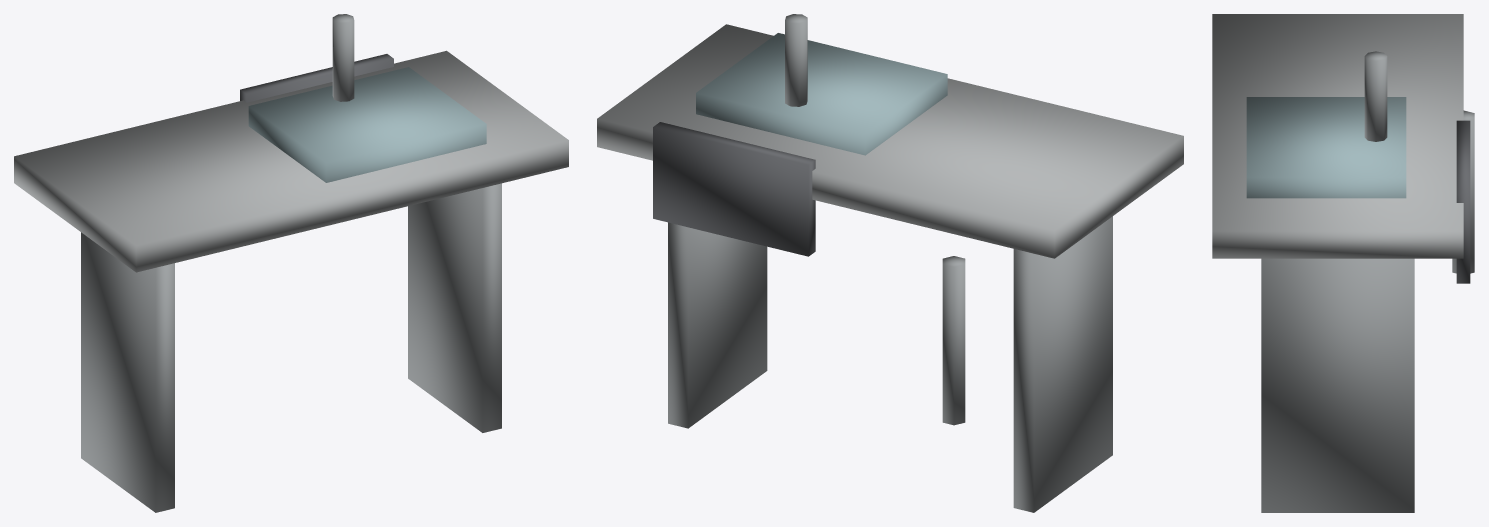
Rendered from lab_sink_bench__service.glb.
3 views of the same model, side by side, from view 1: azimuth 30°, elevation 25°; view 2: azimuth 150°, elevation 25°; view 3: azimuth 270°, elevation 25° (orthographic). The views are drawn at different scales.
Visible parts, largest first — view 1: world; view 2: world; view 3: world.
Boxes of the visible parts, x1,y1,x2,y2 form: world: [14, 14, 568, 512]; world: [597, 14, 1183, 512]; world: [1212, 14, 1474, 512].
Bounding box in the file's own units: 1.35 × 1.17 × 0.6892.
